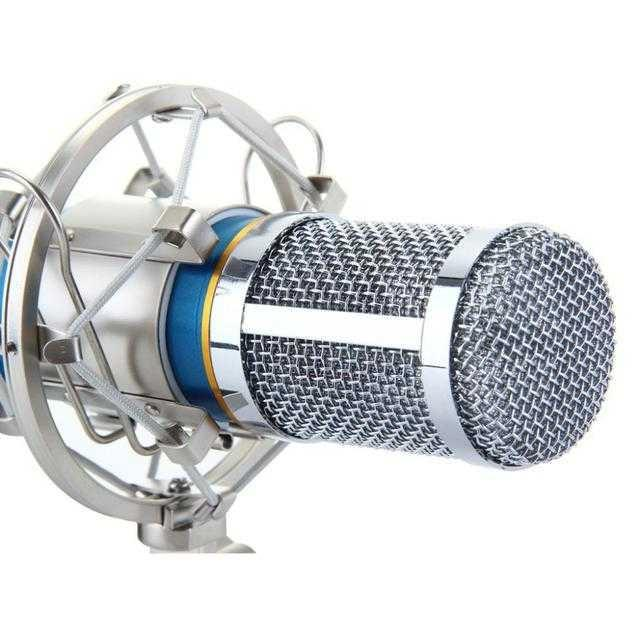microphone: (2, 90, 608, 532)
